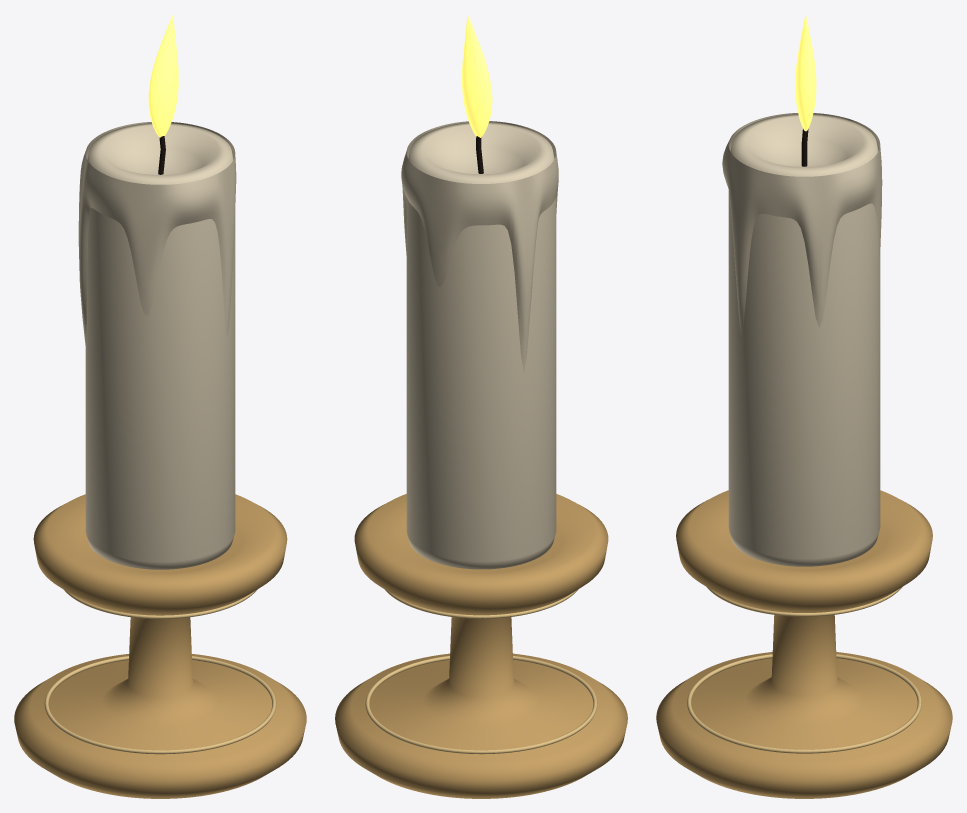
File: candle.glb
3 renders of one model, left to right at view 1: azimuth 30°, elevation 25°; view 2: azimuth 150°, elevation 25°; view 3: azimuth 270°, elevation 25°, orthographic.
Parts seen in each view (by area): view 1: WaxBody, BrassHolder, MeltedWaxDrips, FlameOuter, Holder_Bead.001, Holder_Bead.002; view 2: WaxBody, BrassHolder, MeltedWaxDrips, FlameOuter, Holder_Bead.001, Holder_Bead.002; view 3: WaxBody, BrassHolder, MeltedWaxDrips, Holder_Bead.001, FlameOuter, Holder_Bead.002.
Boxes of the visible parts, box(x1,y1,x2,y2) form: WaxBody: box(85, 123, 235, 569); BrassHolder: box(14, 494, 306, 798); MeltedWaxDrips: box(78, 122, 236, 348); FlameOuter: box(148, 15, 178, 137); Holder_Bead.001: box(44, 656, 276, 754); Holder_Bead.002: box(63, 589, 257, 618); WaxBody: box(406, 122, 556, 569); BrassHolder: box(335, 494, 627, 798); MeltedWaxDrips: box(401, 121, 558, 372); FlameOuter: box(462, 15, 492, 137); Holder_Bead.001: box(365, 656, 597, 754); Holder_Bead.002: box(384, 589, 578, 618); WaxBody: box(728, 114, 880, 566); BrassHolder: box(656, 490, 952, 798); MeltedWaxDrips: box(722, 113, 882, 335); Holder_Bead.001: box(687, 654, 921, 753); FlameOuter: box(795, 14, 816, 130); Holder_Bead.002: box(706, 587, 902, 616).
Bounding box in the file's own units: 0.09 × 0.247 × 0.09.
